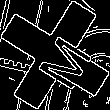M_NW: (21, 22, 89, 88)
